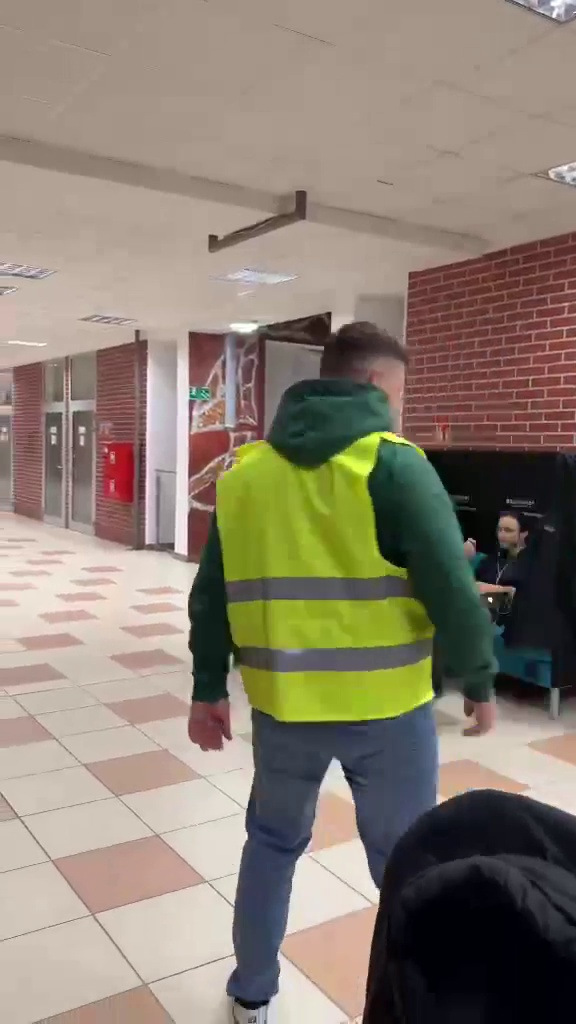vest: (182, 304, 496, 992)
